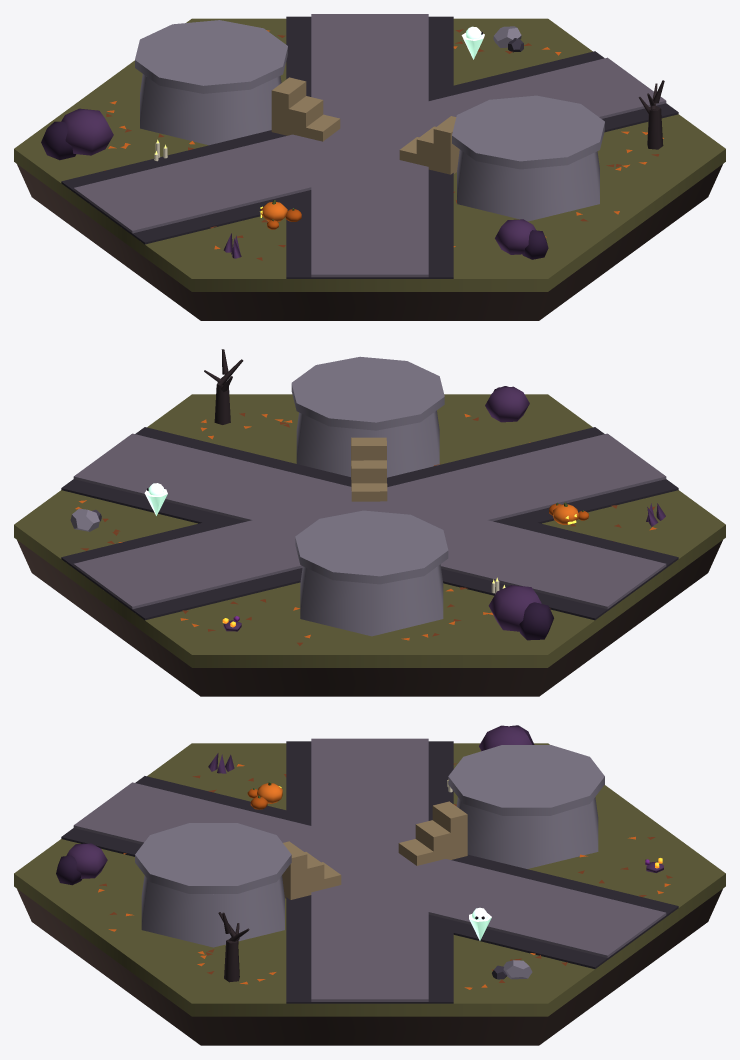
Rendered from tile_signalCross.glb.
The picture shows the model from 3 angles, top to bottom: view 1: azimuth 30°, elevation 25°; view 2: azimuth 150°, elevation 25°; view 3: azimuth 270°, elevation 25°; orthographic projection.
Parts seen in each view (by area): view 1: road, ground, ground_soil, tower_slot_2_plate, tower_slot_1_plate, tower_slot_2_podest, tower_slot_1_podest, road_surface_hub, tower_slot_1, tower_slot_2, deco_bush_0_a, deco_bush_5_a (+3 smaller); view 2: road, ground, ground_soil, tower_slot_1_plate, tower_slot_2_plate, tower_slot_1_podest, tower_slot_2_podest, tower_slot_2, deco_bush_0_a, road_surface_hub, deco_bush_5_a, deco_bush_0_b (+1 smaller); view 3: road, ground, ground_soil, tower_slot_1_plate, tower_slot_2_plate, tower_slot_2_podest, tower_slot_1_podest, tower_slot_1, tower_slot_2, road_surface_hub, deco_bush_5_a, deco_bush_0_a (+2 smaller).
Boxes of the visible parts, box(x1,y1,x2,y2) form: road: box(61, 14, 678, 278); ground: box(14, 18, 725, 291); ground_soil: box(17, 164, 722, 320); tower_slot_2_plate: box(452, 95, 604, 169); tower_slot_1_plate: box(135, 20, 287, 93); tower_slot_2_podest: box(457, 149, 599, 221); tower_slot_1_podest: box(140, 74, 281, 145); road_surface_hub: box(311, 119, 422, 168); tower_slot_1: box(271, 77, 340, 141); tower_slot_2: box(399, 116, 459, 174); deco_bush_0_a: box(61, 108, 113, 155); deco_bush_5_a: box(495, 219, 535, 254); road: box(61, 427, 678, 620); ground: box(14, 394, 725, 667); ground_soil: box(17, 540, 722, 696); tower_slot_1_plate: box(295, 510, 448, 584); tower_slot_2_plate: box(291, 356, 444, 430); tower_slot_1_podest: box(300, 564, 443, 636); tower_slot_2_podest: box(296, 410, 439, 477); tower_slot_2: box(351, 437, 387, 501); deco_bush_0_a: box(488, 585, 541, 631); road_surface_hub: box(312, 497, 427, 522); deco_bush_5_a: box(485, 386, 529, 422); deco_bush_0_b: box(519, 602, 553, 640); road: box(61, 738, 678, 1003); ground: box(14, 743, 725, 1016); ground_soil: box(17, 889, 722, 1045); tower_slot_1_plate: box(448, 745, 604, 815); tower_slot_2_plate: box(135, 823, 291, 893); tower_slot_2_podest: box(141, 875, 284, 947); tower_slot_1_podest: box(456, 797, 598, 868); tower_slot_1: box(398, 801, 467, 865); tower_slot_2: box(282, 841, 341, 899); road_surface_hub: box(317, 844, 428, 886); deco_bush_5_a: box(66, 843, 107, 878); deco_bush_0_a: box(479, 725, 532, 751).
Bounding box in the file's own units: 1.73 × 0.3615 × 2.
